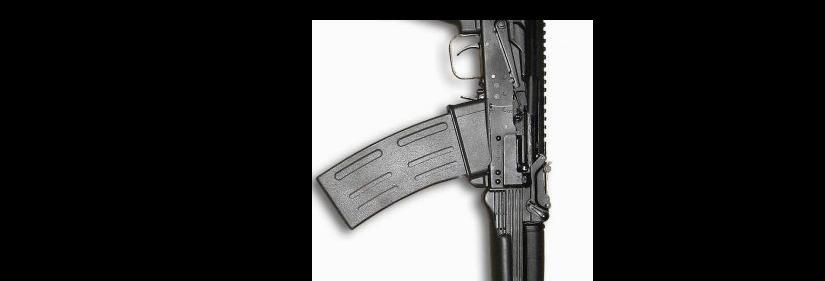larga: (316, 21, 553, 281)
